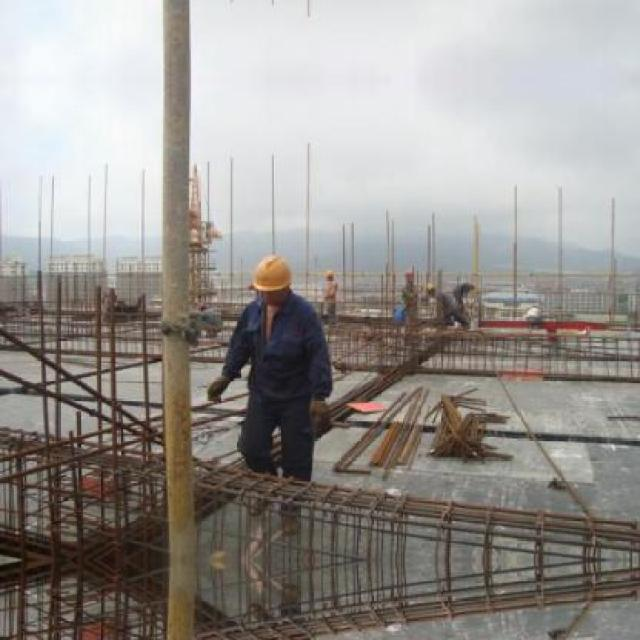helmet: (253, 254, 292, 306), (402, 267, 416, 284), (324, 266, 334, 282), (426, 280, 436, 294)
